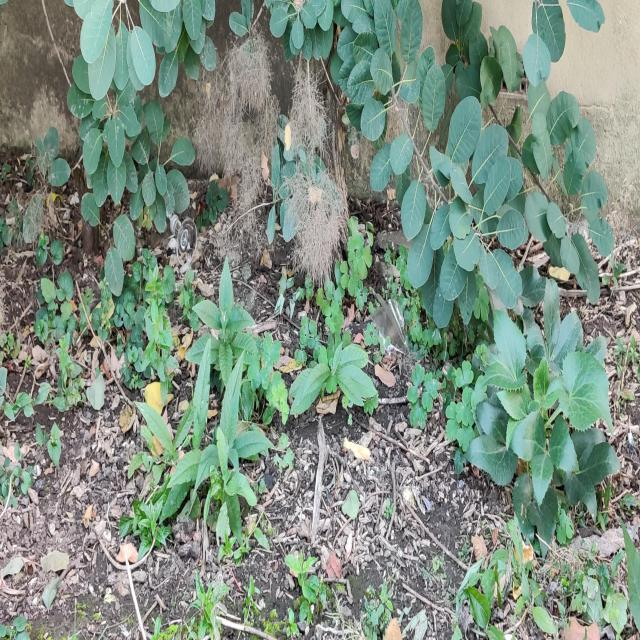litter: (166, 209, 197, 267)
